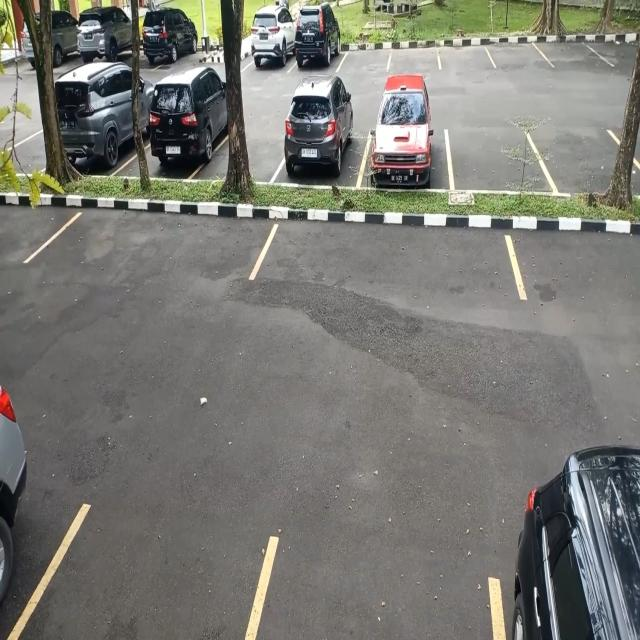empty: (270, 210, 524, 298), (49, 199, 269, 288), (542, 129, 640, 200), (448, 128, 542, 195), (544, 30, 602, 72), (439, 33, 494, 72), (492, 32, 544, 73), (342, 34, 391, 76), (390, 35, 440, 74)
occupied: (363, 94, 450, 187), (279, 90, 361, 185), (147, 84, 226, 177), (248, 18, 293, 76), (294, 18, 342, 72)
